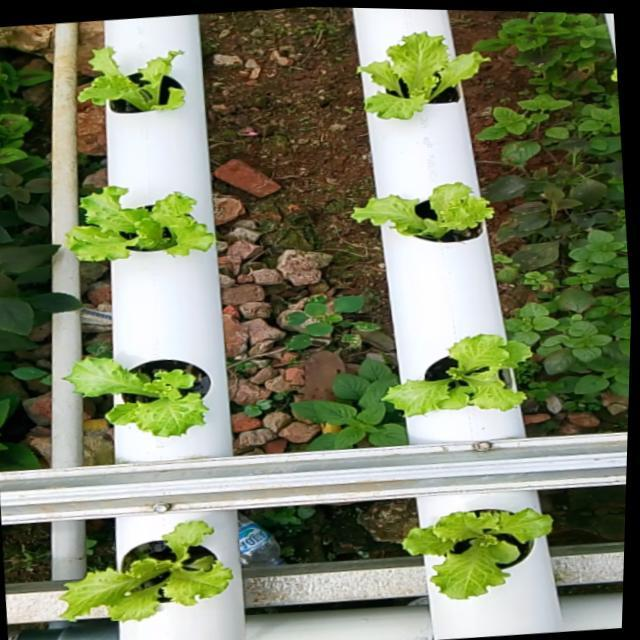Baby: (57, 520, 231, 622), (403, 496, 553, 604), (380, 337, 532, 422), (69, 362, 216, 443), (71, 192, 221, 268), (362, 40, 493, 127), (355, 189, 498, 249), (84, 55, 190, 121)
